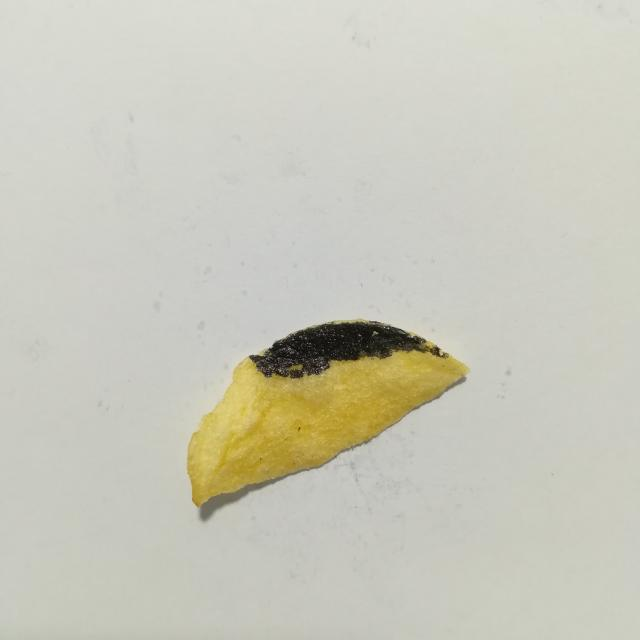chip: (187, 321, 469, 507)
damaged: (249, 321, 447, 378)
